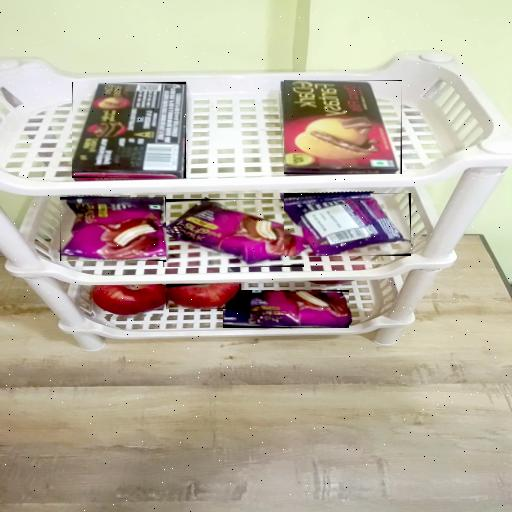Apple: (90, 286, 168, 318), (166, 284, 241, 309)
Choco Fills: (284, 80, 402, 174), (72, 82, 186, 178)
Choco Pie: (163, 199, 304, 267), (284, 193, 411, 256), (60, 197, 166, 261), (223, 290, 349, 328)
